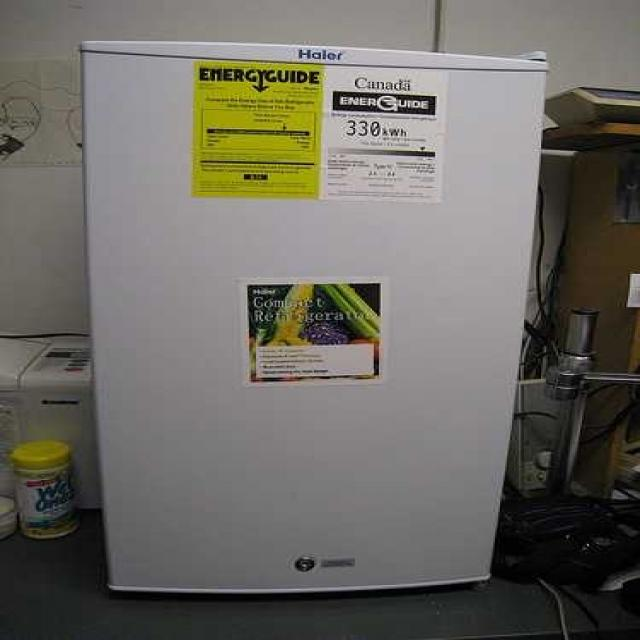refrigerator: (80, 39, 540, 586)
